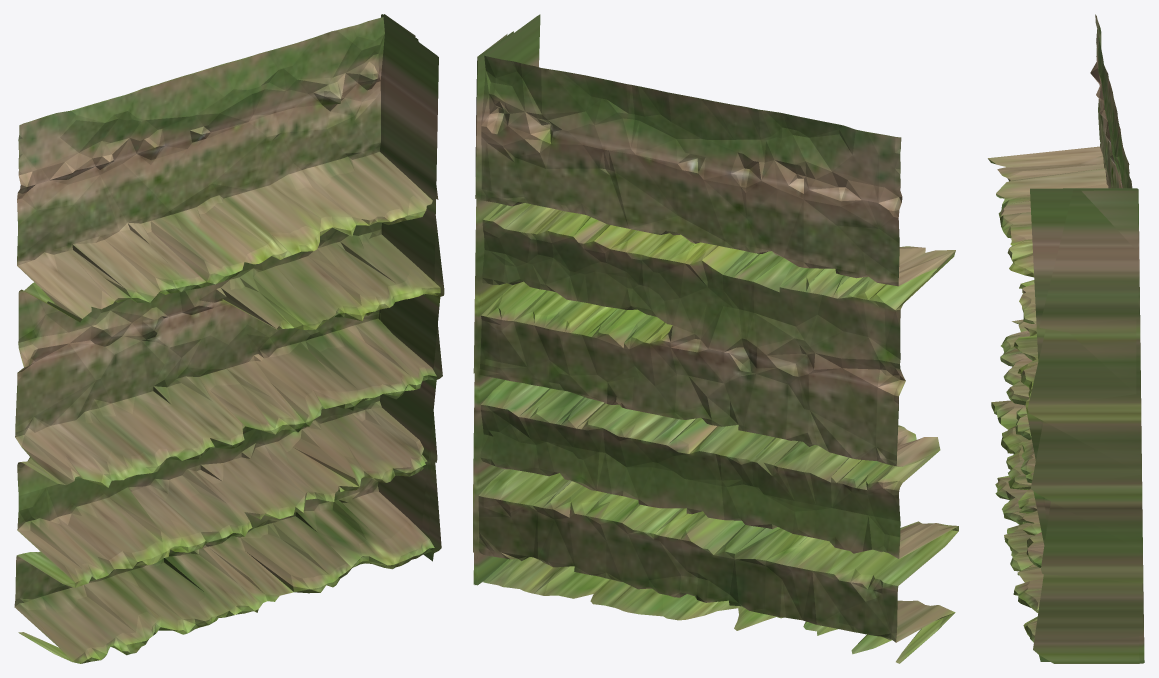
File: map_210_100.obj
The picture shows the model from 3 angles, left to right: view 1: azimuth 30°, elevation 25°; view 2: azimuth 150°, elevation 25°; view 3: azimuth 270°, elevation 25°; orthographic projection. The views are drawn at different scales.
Parts seen in each view (by area): view 1: grp1; view 2: grp1; view 3: grp1.
Boxes of the visible parts, <box> form: grp1: <box>14,14,444,663</box>; grp1: <box>473,14,958,663</box>; grp1: <box>988,14,1144,663</box>.
Bounding box in the file's own units: 8 × 10 × 3.01.
Materials: 1 (1 with a texture image).
